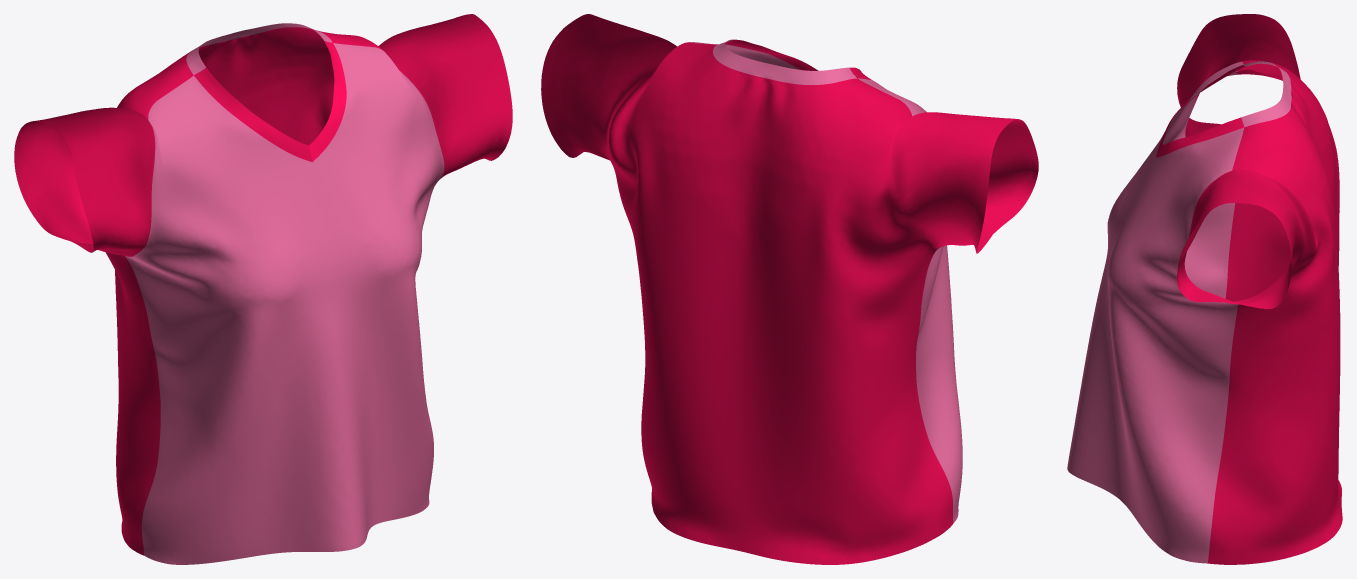
File: female_pink_tshirt_S.glb
The picture shows the model from 3 angles, left to right: view 1: azimuth 30°, elevation 25°; view 2: azimuth 150°, elevation 25°; view 3: azimuth 270°, elevation 25°; orthographic projection. The views are drawn at different scales.
Parts seen in each view (by area): view 1: V_neck_T_shirt_horizontal_sleeves; view 2: V_neck_T_shirt_horizontal_sleeves; view 3: V_neck_T_shirt_horizontal_sleeves.
Boxes of the visible parts, x1,y1,x2,y2 form: V_neck_T_shirt_horizontal_sleeves: (14, 14, 512, 564); V_neck_T_shirt_horizontal_sleeves: (541, 14, 1038, 564); V_neck_T_shirt_horizontal_sleeves: (1067, 14, 1342, 564).
Size of the model in its own units: 0.5114 by 0.51 by 0.301.
